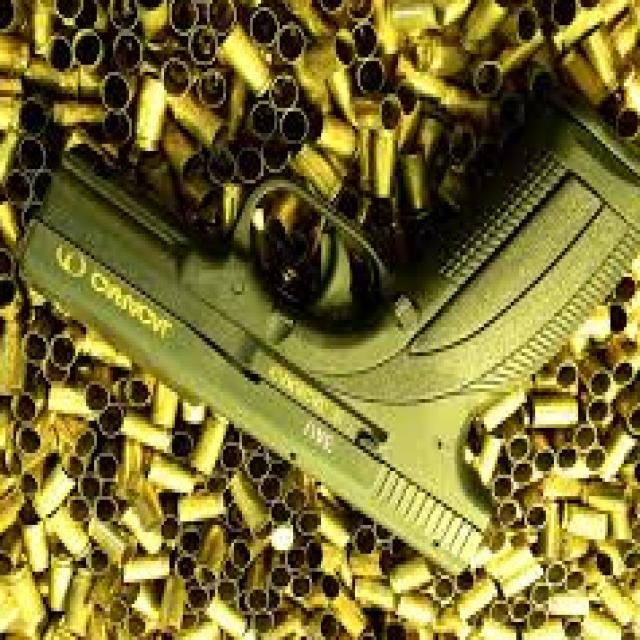Gun: (0, 61, 640, 572)
